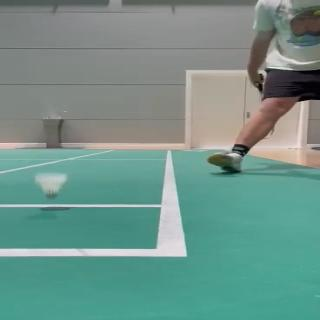Shuttle: (35, 172, 67, 199)
